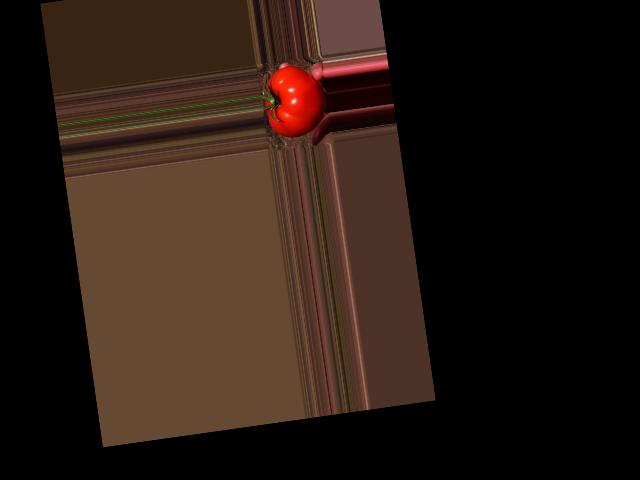tomato: (260, 61, 330, 139)
